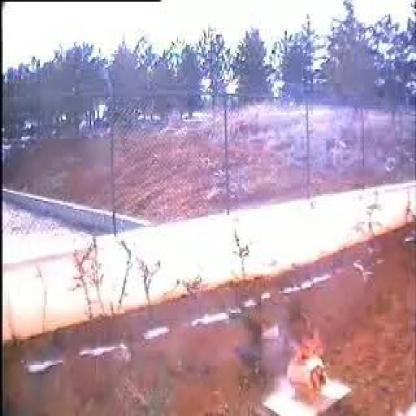-: (266, 339, 288, 373)
foggia-v2-map80-epoch100 - v1 4323: (292, 340, 329, 388)
